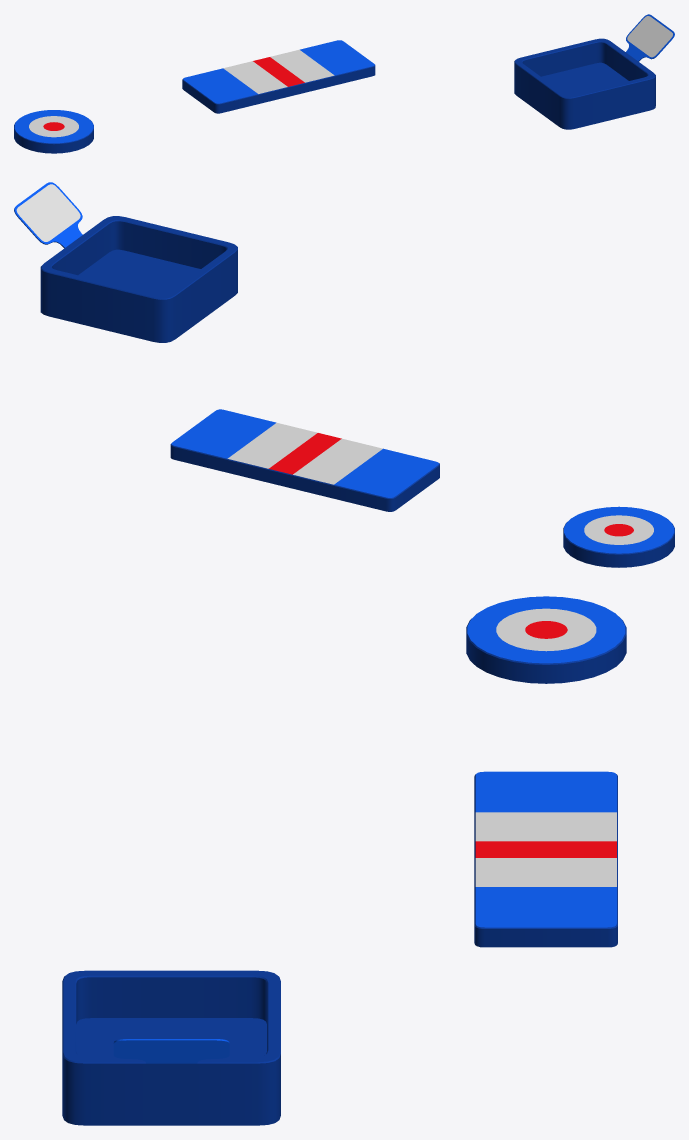
File: targets.FBX
The picture shows the model from 3 angles, top to bottom: view 1: azimuth 30°, elevation 25°; view 2: azimuth 150°, elevation 25°; view 3: azimuth 270°, elevation 25°; orthographic projection. The views are drawn at different scales.
Visible parts, largest first — view 1: Box002, Box001, Cylinder001; view 2: Box002, Box001, Cylinder001; view 3: Box002, Box001, Cylinder001.
Boxes of the visible parts, bbox=[...] form: Box002: bbox=[514, 14, 674, 129]; Box001: bbox=[182, 40, 375, 113]; Cylinder001: bbox=[14, 110, 93, 153]; Box002: bbox=[14, 182, 237, 342]; Box001: bbox=[170, 409, 439, 511]; Cylinder001: bbox=[563, 506, 674, 567]; Box002: bbox=[62, 970, 280, 1125]; Box001: bbox=[474, 771, 617, 947]; Cylinder001: bbox=[466, 596, 626, 683].
Bounding box in the file's own units: 110 × 48.78 × 11.05.
